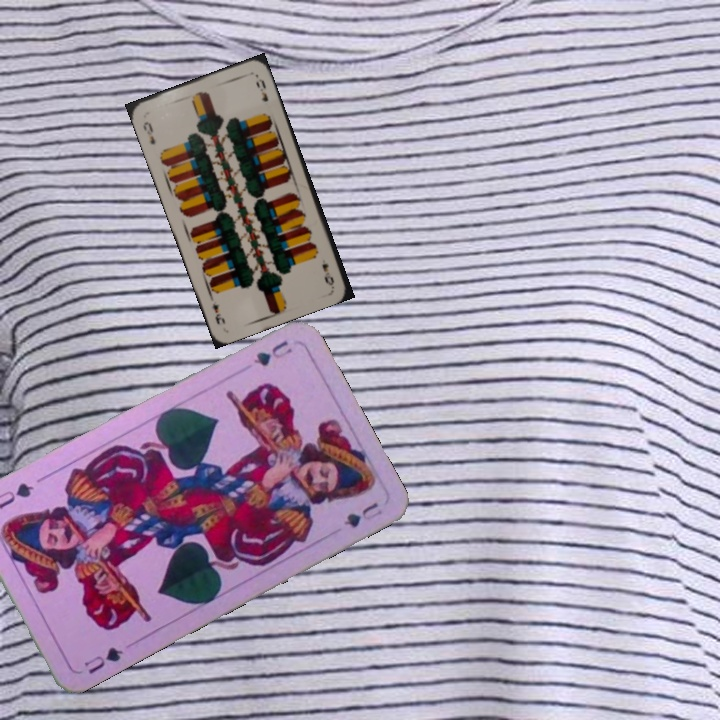E9: (139, 117, 158, 147), (318, 259, 337, 288)
GU: (80, 643, 126, 677), (249, 336, 295, 369)
